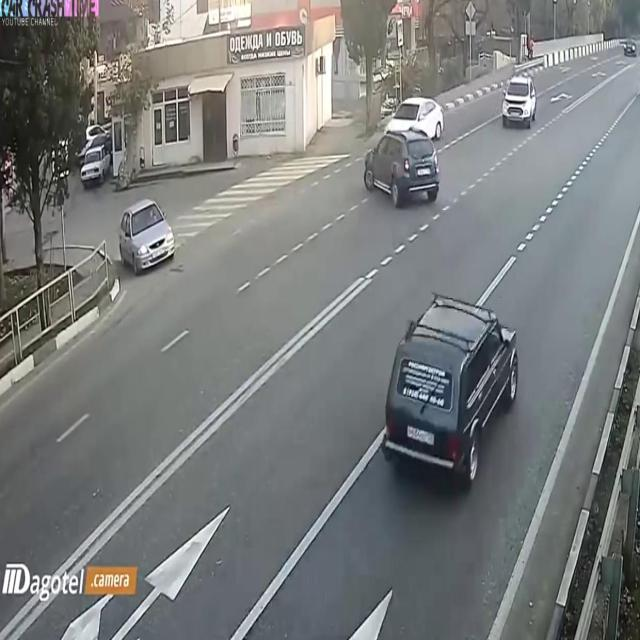accident: (358, 88, 452, 219)
